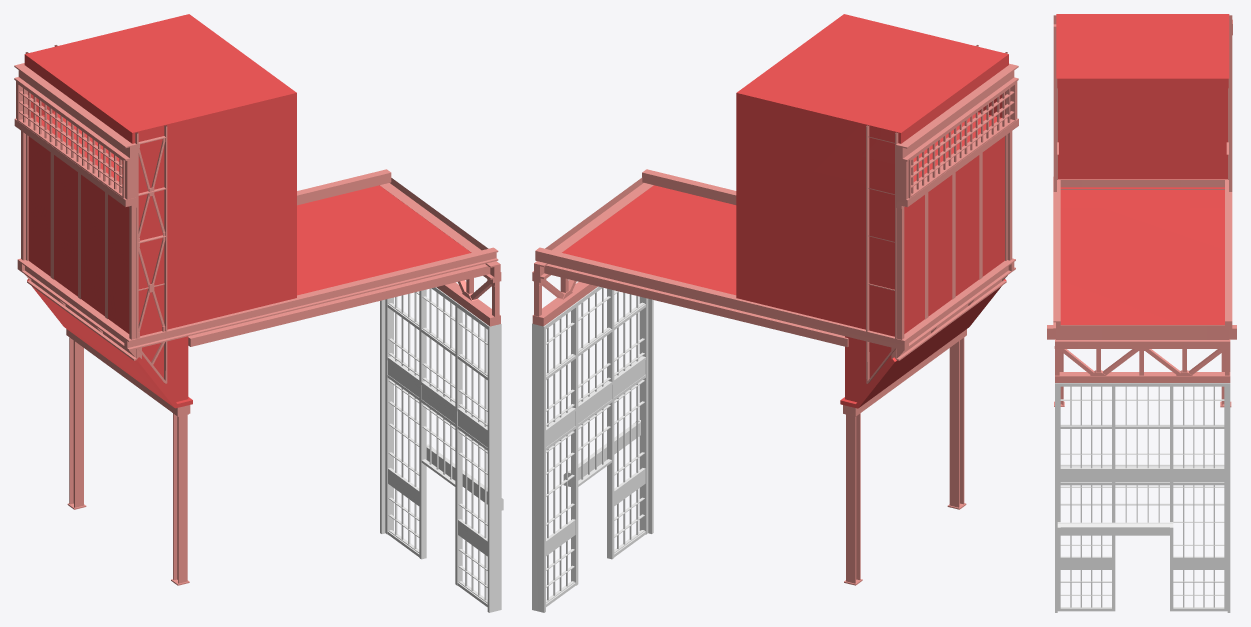
The model's file is SM_H_Building_Tide_Jail_B_01e_ATLAS.fbx.
3 views of the same model, side by side, from view 1: azimuth 30°, elevation 25°; view 2: azimuth 150°, elevation 25°; view 3: azimuth 270°, elevation 25° (orthographic). The views are drawn at different scales.
Parts seen in each view (by area): view 1: SM_H_Building_Tide_Jail_B_01e_ATLAS; view 2: SM_H_Building_Tide_Jail_B_01e_ATLAS; view 3: SM_H_Building_Tide_Jail_B_01e_ATLAS.
Part boxes in pixels (box(x1,y1,x2,y2)): SM_H_Building_Tide_Jail_B_01e_ATLAS: box(14, 14, 503, 612); SM_H_Building_Tide_Jail_B_01e_ATLAS: box(532, 14, 1018, 612); SM_H_Building_Tide_Jail_B_01e_ATLAS: box(1047, 14, 1236, 612).
Size of the model in its own units: 1233 by 664 by 1753.
